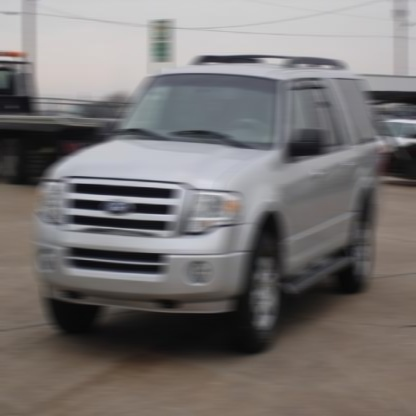Vehicle: (29, 51, 388, 354)
